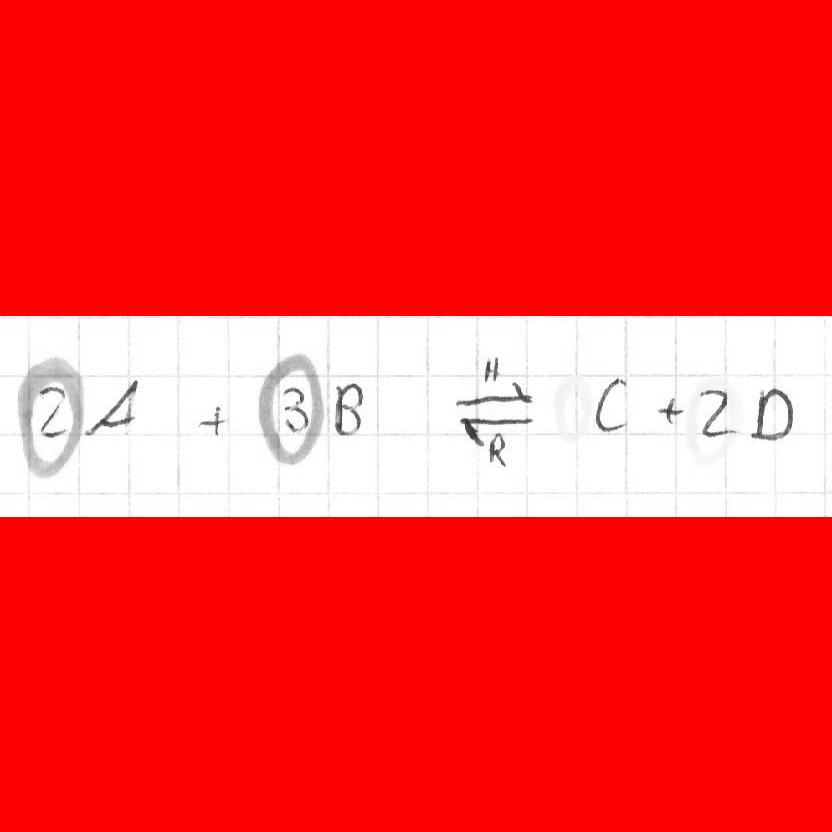Char: (451, 378, 536, 443), (24, 369, 75, 473), (87, 377, 140, 439), (752, 382, 794, 443), (331, 378, 364, 439), (593, 376, 627, 435), (696, 388, 733, 438), (278, 381, 310, 435), (196, 401, 225, 440), (657, 391, 683, 426), (479, 351, 504, 387), (486, 431, 508, 467)
